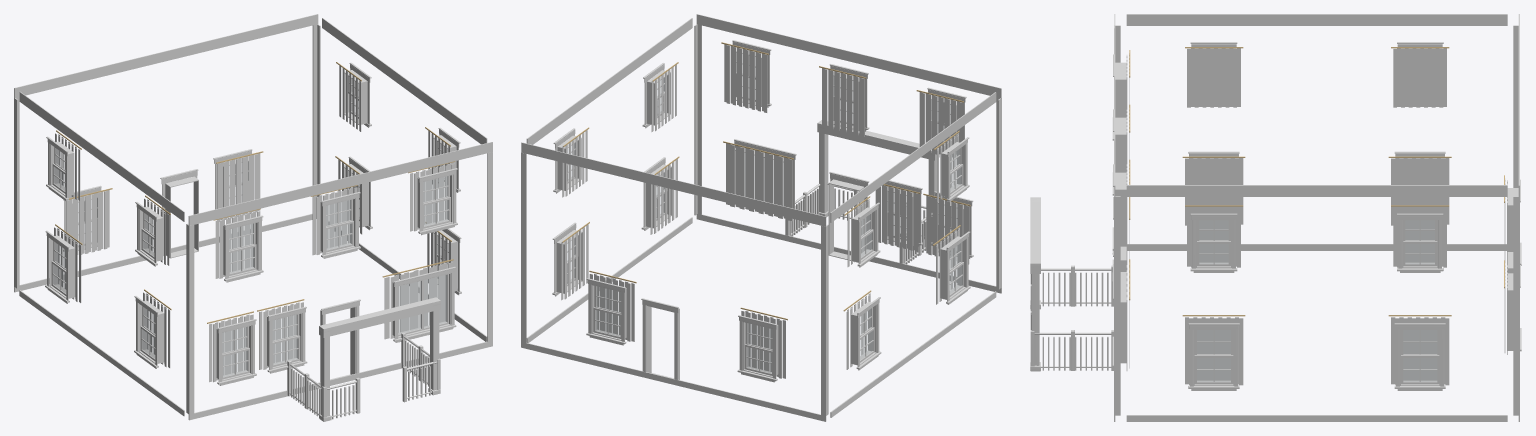
File: SM_Town_House_Ash17_Trim.fbx
3 views of the same model, side by side, from view 1: azimuth 30°, elevation 25°; view 2: azimuth 150°, elevation 25°; view 3: azimuth 270°, elevation 25° (orthographic). The views are drawn at different scales.
Parts seen in each view (by area): view 1: SM_Town_House_Ash17_Trim_1; view 2: SM_Town_House_Ash17_Trim_1; view 3: SM_Town_House_Ash17_Trim_1.
Boxes of the visible parts, <box> form: SM_Town_House_Ash17_Trim_1: <box>14,14,492,421</box>; SM_Town_House_Ash17_Trim_1: <box>521,14,1001,421</box>; SM_Town_House_Ash17_Trim_1: <box>1030,14,1521,421</box>.
Bounding box in the file's own units: 913 × 582 × 1096.
